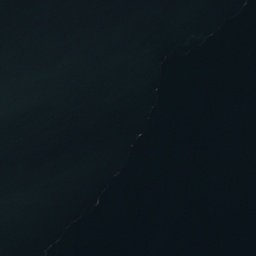Marine Debris: (43, 238, 61, 256), (93, 187, 107, 207), (136, 132, 143, 141)
